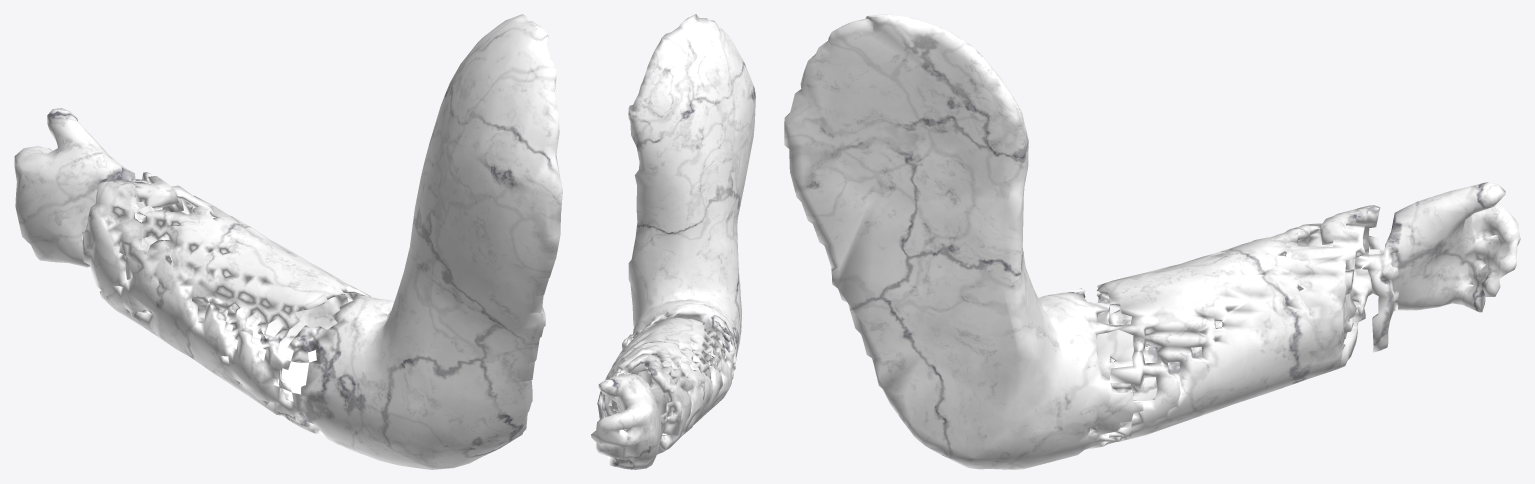
The model's file is statue_left-arm.glb.
3 views of the same model, side by side, from view 1: azimuth 30°, elevation 25°; view 2: azimuth 150°, elevation 25°; view 3: azimuth 270°, elevation 25° (orthographic). The views are drawn at different scales.
Visible parts, largest first — view 1: statue_left-arm_Baked; view 2: statue_left-arm_Baked; view 3: statue_left-arm_Baked.
Boxes of the visible parts, x1,y1,x2,y2 form: statue_left-arm_Baked: (14, 14, 562, 469); statue_left-arm_Baked: (591, 14, 755, 469); statue_left-arm_Baked: (784, 14, 1520, 469).
Bounding box in the file's own units: 0.7699 × 1.32 × 1.86.
Materials: 1 (1 with a texture image).
